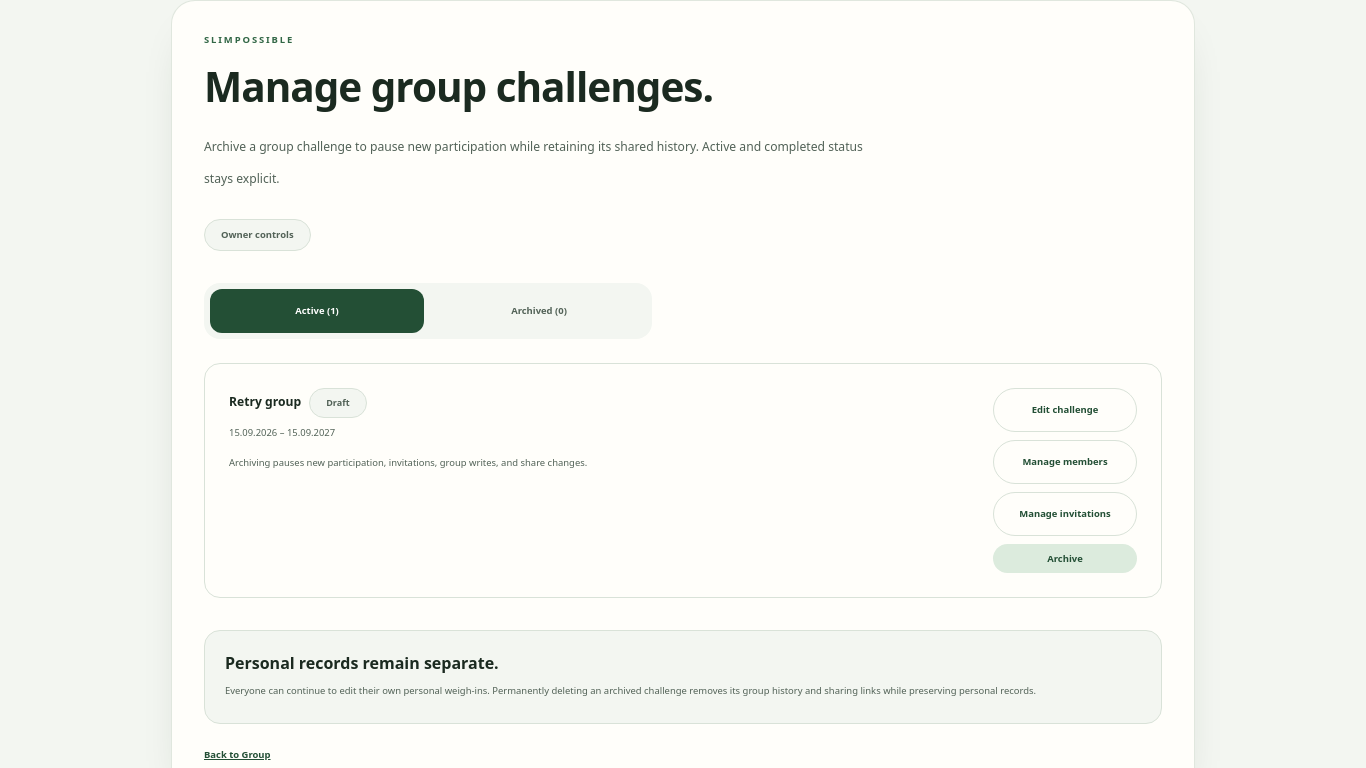
ChallengeManagementPage › announces and focuses missing-rpc failure feedback, keeping Archive available for retry
Click the button "Archive" at point(1065, 558), box top-left (993, 544), bottom-right (1137, 573)
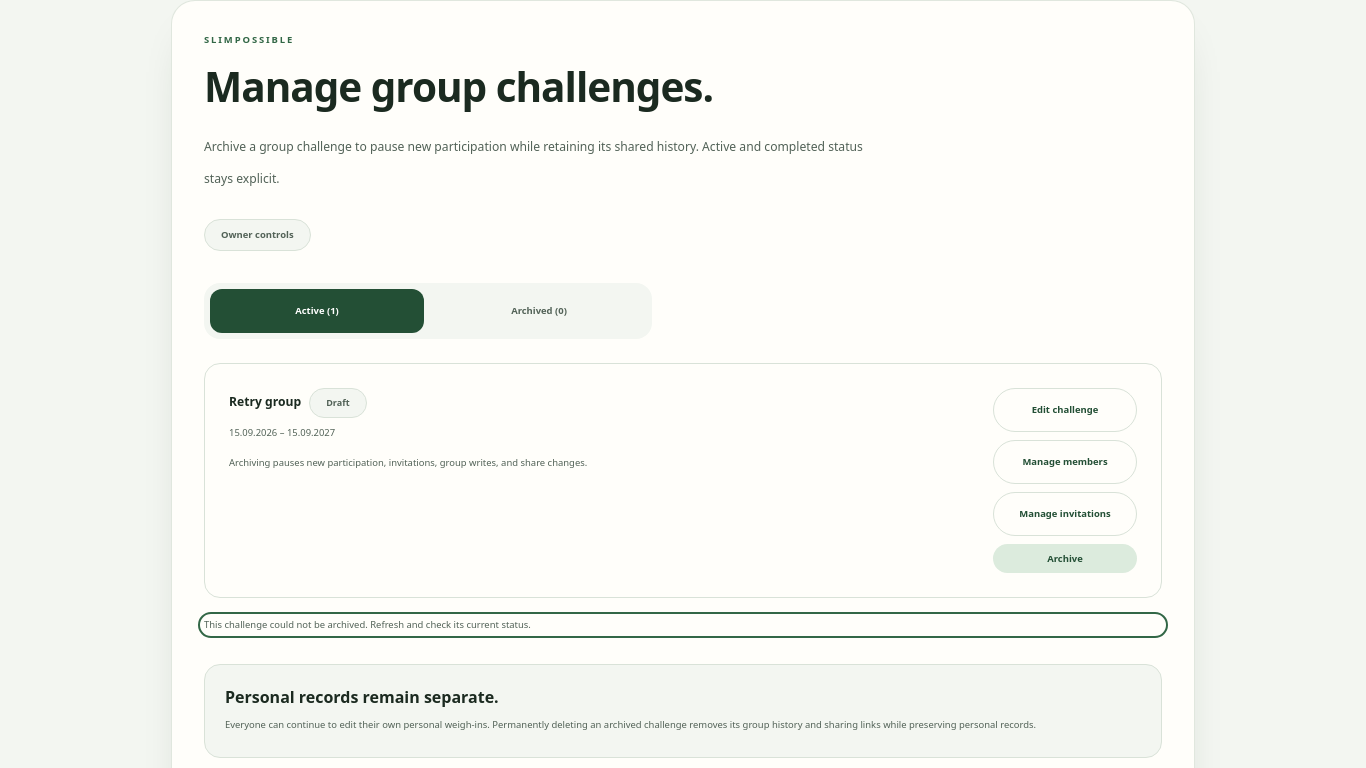
Expected: the heading "Retry group" is shown, top-left (229, 393), bottom-right (301, 412)
Now the message "This challenge could not be archived. Refresh and check its current status." is shown, box top-left (204, 618), bottom-right (531, 631)
